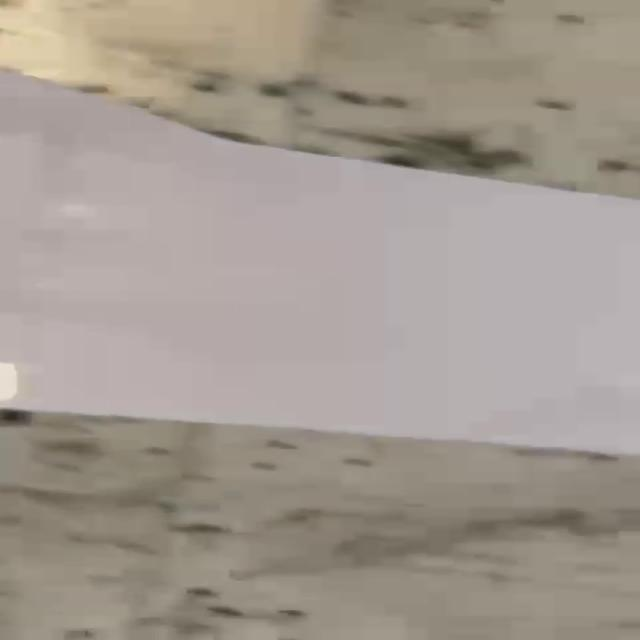road: (0, 69, 640, 458)
